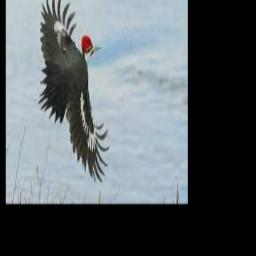Woodpecker: (38, 0, 110, 181)
